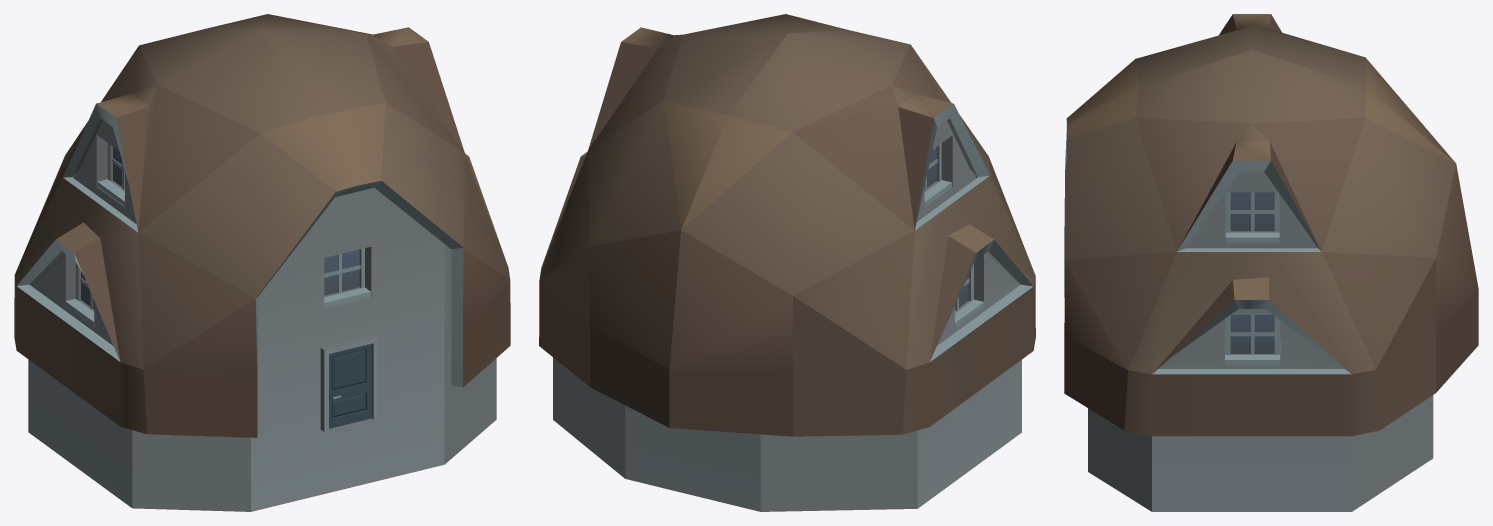
File: Residential_GeodesicHome_alt03.glb
The picture shows the model from 3 angles, left to right: view 1: azimuth 30°, elevation 25°; view 2: azimuth 150°, elevation 25°; view 3: azimuth 270°, elevation 25°; orthographic projection. The views are drawn at different scales.
Visible parts, largest first — view 1: base.135, windowRefl.105; view 2: base.135; view 3: base.135, windowRefl.105.
Boxes of the visible parts, x1,y1,x2,y2 form: base.135: (14,14,510,511); windowRefl.105: (81,147,359,309); base.135: (539,14,1035,511); base.135: (1064,14,1478,511); windowRefl.105: (1230,192,1274,353).
Size of the model in its own units: 12.3 by 11.67 by 11.63.
